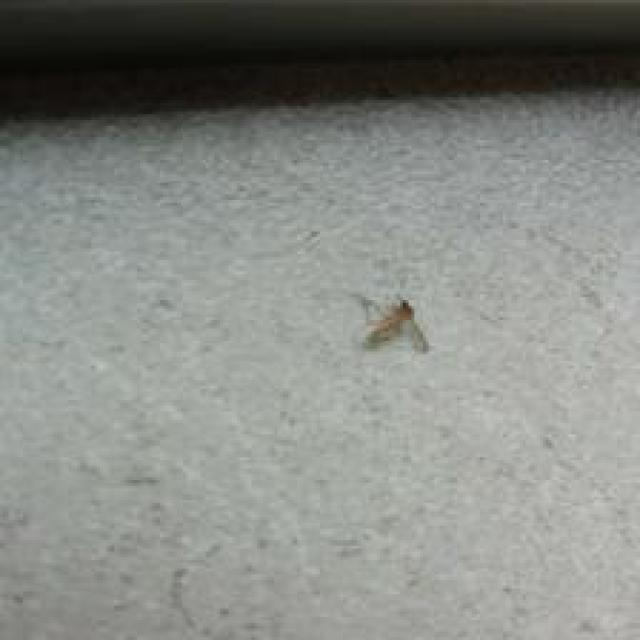Culex: (350, 292, 430, 354)
